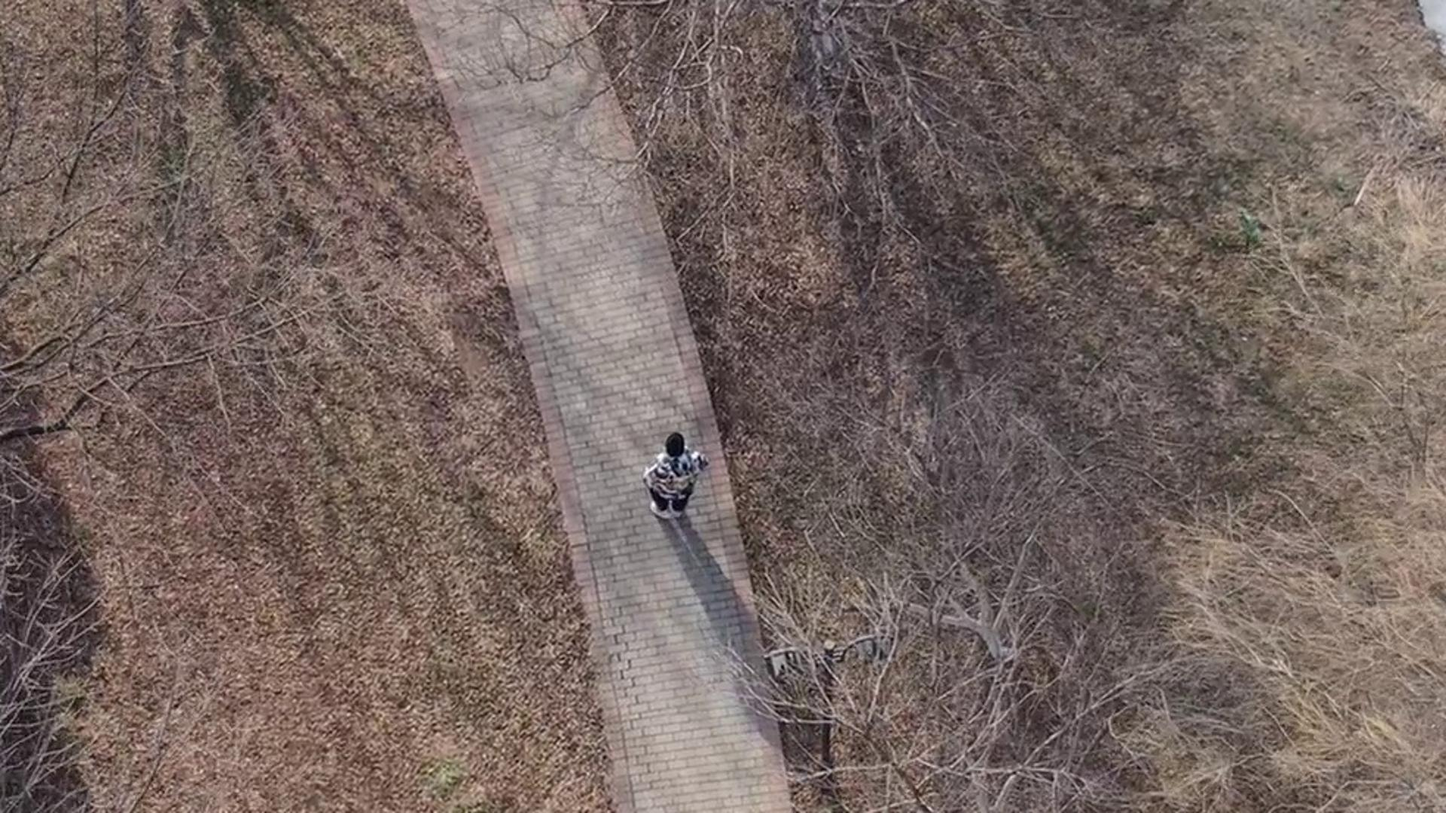human: (601, 440, 667, 538)
